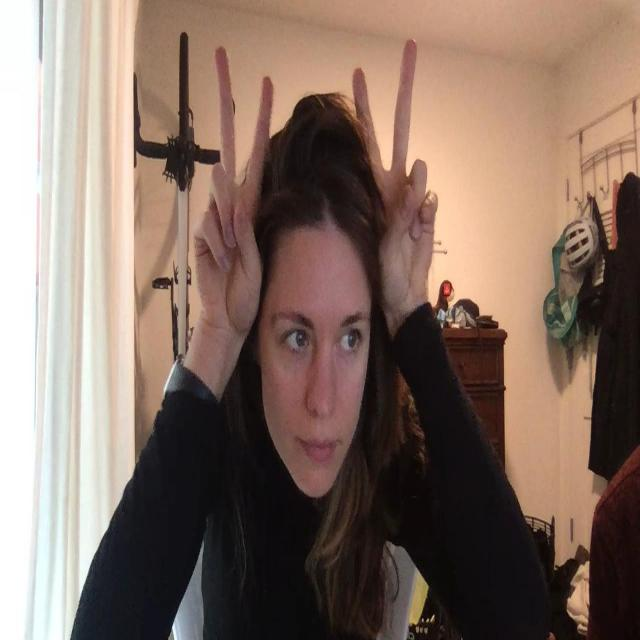face: (259, 259, 371, 497)
